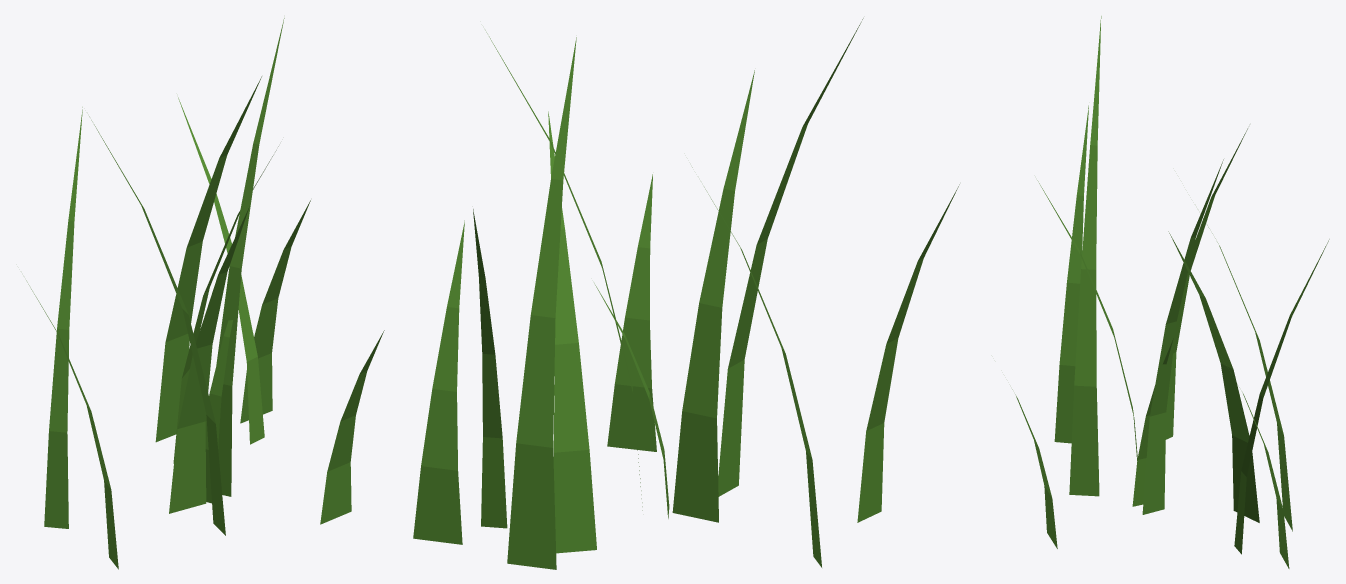
File: GrassTuft.glb
3 renders of one model, left to right at view 1: azimuth 30°, elevation 25°; view 2: azimuth 150°, elevation 25°; view 3: azimuth 270°, elevation 25°, orthographic. The views are drawn at different scales.
Visible parts, largest first — view 1: GrassTuft; view 2: GrassTuft; view 3: GrassTuft.
Boxes of the visible parts, x1=… form: GrassTuft: x1=26, y1=18, x2=384, y2=569; GrassTuft: x1=413, y1=18, x2=959, y2=569; GrassTuft: x1=1012, y1=16, x2=1329, y2=568.
Size of the model in its own units: 0.4708 by 0.5534 by 0.4066.
